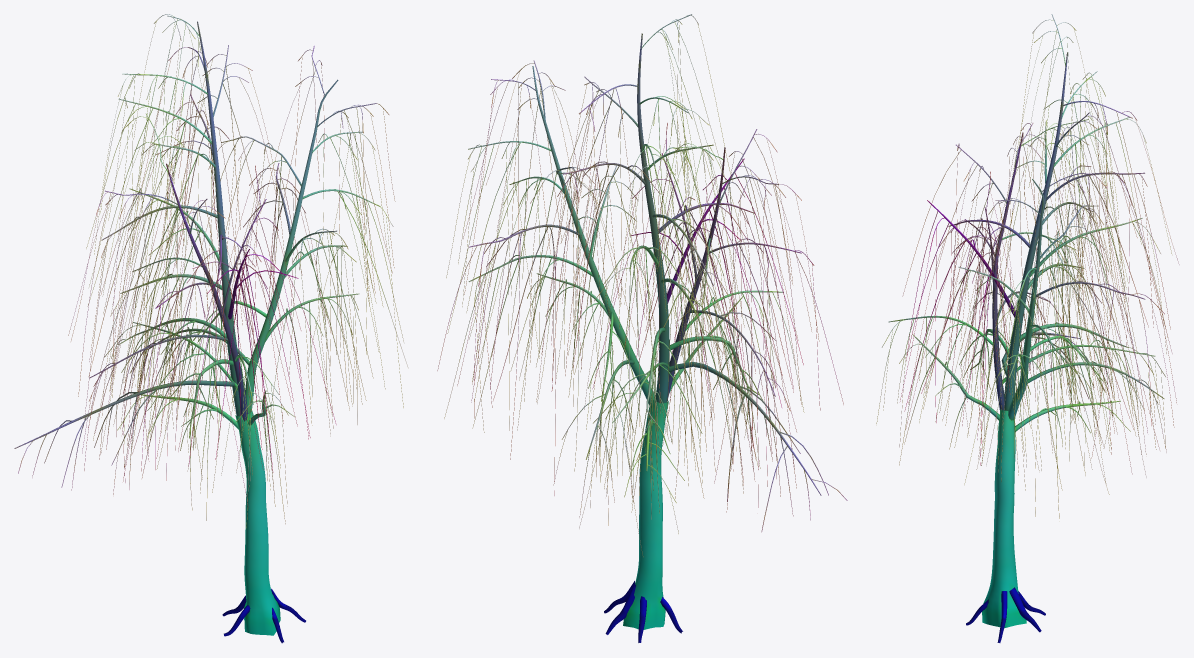
Rendered from birch-hero.glb.
3 renders of one model, left to right at view 1: azimuth 30°, elevation 25°; view 2: azimuth 150°, elevation 25°; view 3: azimuth 270°, elevation 25°, orthographic. The views are drawn at different scales.
Parts seen in each view (by area): view 1: bark; view 2: bark; view 3: bark.
Boxes of the visible parts, box(x1,y1,x2,y2) form: bark: box(14, 14, 408, 643); bark: box(437, 14, 847, 642); bark: box(876, 14, 1179, 642).
Bounding box in the file's own units: 11.18 × 17.48 × 8.29.
